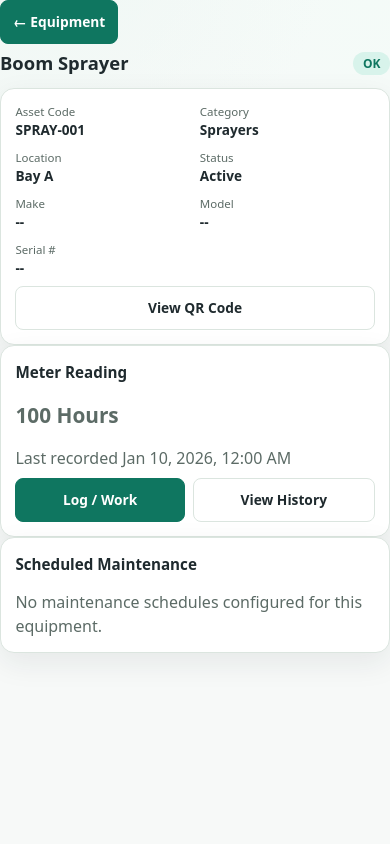
Test case: MobileMaintenanceEquipmentDetailPage — Log / Work and unified history › shows 'Log / Work' (not 'Record Reading') for a user with edit access, and opens the work-log sheet on click
Click the button "Log / Work". click: (100, 500)
box: [15,478,185,522]
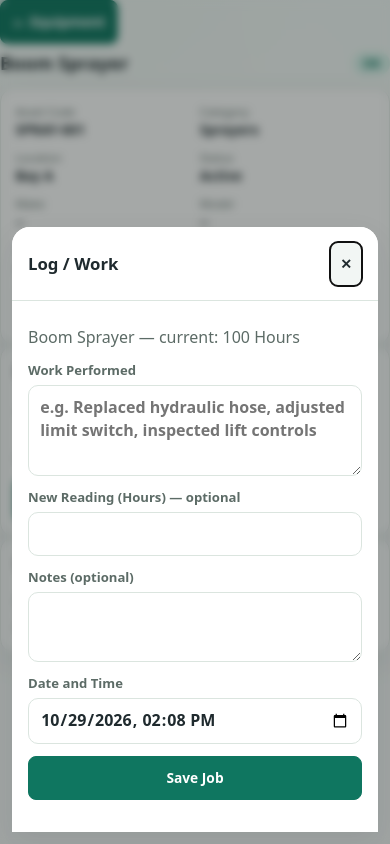
Expected: the heading "Log / Work" is shown, [28,252,118,276]
